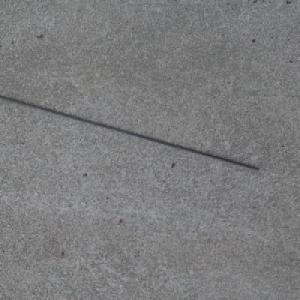LuggagePart: (0, 96, 260, 172)
